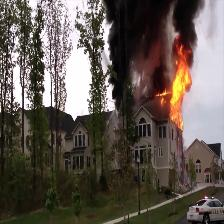fire: (171, 50, 191, 104)
smoke: (106, 1, 167, 89), (174, 1, 201, 41)
